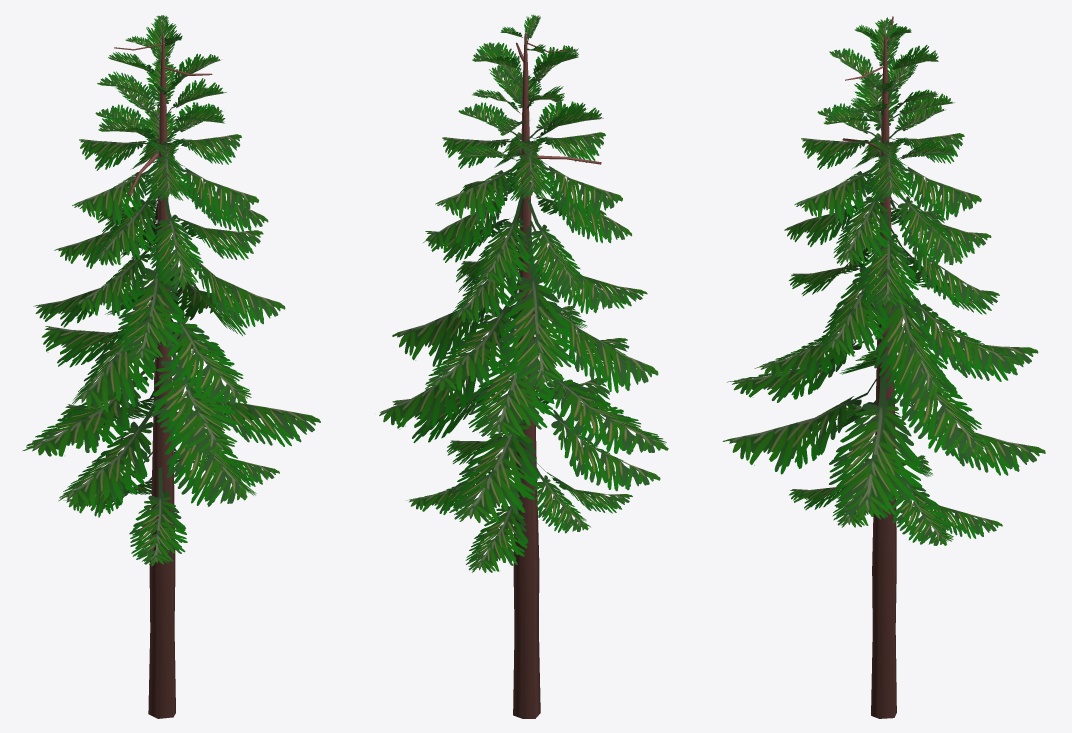
File: Pine_Tree_1H.fbx
The picture shows the model from 3 angles, left to right: view 1: azimuth 30°, elevation 25°; view 2: azimuth 150°, elevation 25°; view 3: azimuth 270°, elevation 25°; orthographic projection.
Visible parts, largest first — view 1: Pine_Tree_1H; view 2: Pine_Tree_1H; view 3: Pine_Tree_1H.
Part boxes in pixels (x1,y1,x2,y2): Pine_Tree_1H: (22,15,320,718); Pine_Tree_1H: (379,14,668,718); Pine_Tree_1H: (722,16,1045,718).
Bounding box in the file's own units: 315 × 668 × 305.
